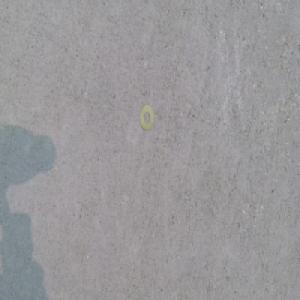Washer: (139, 108, 154, 135)
